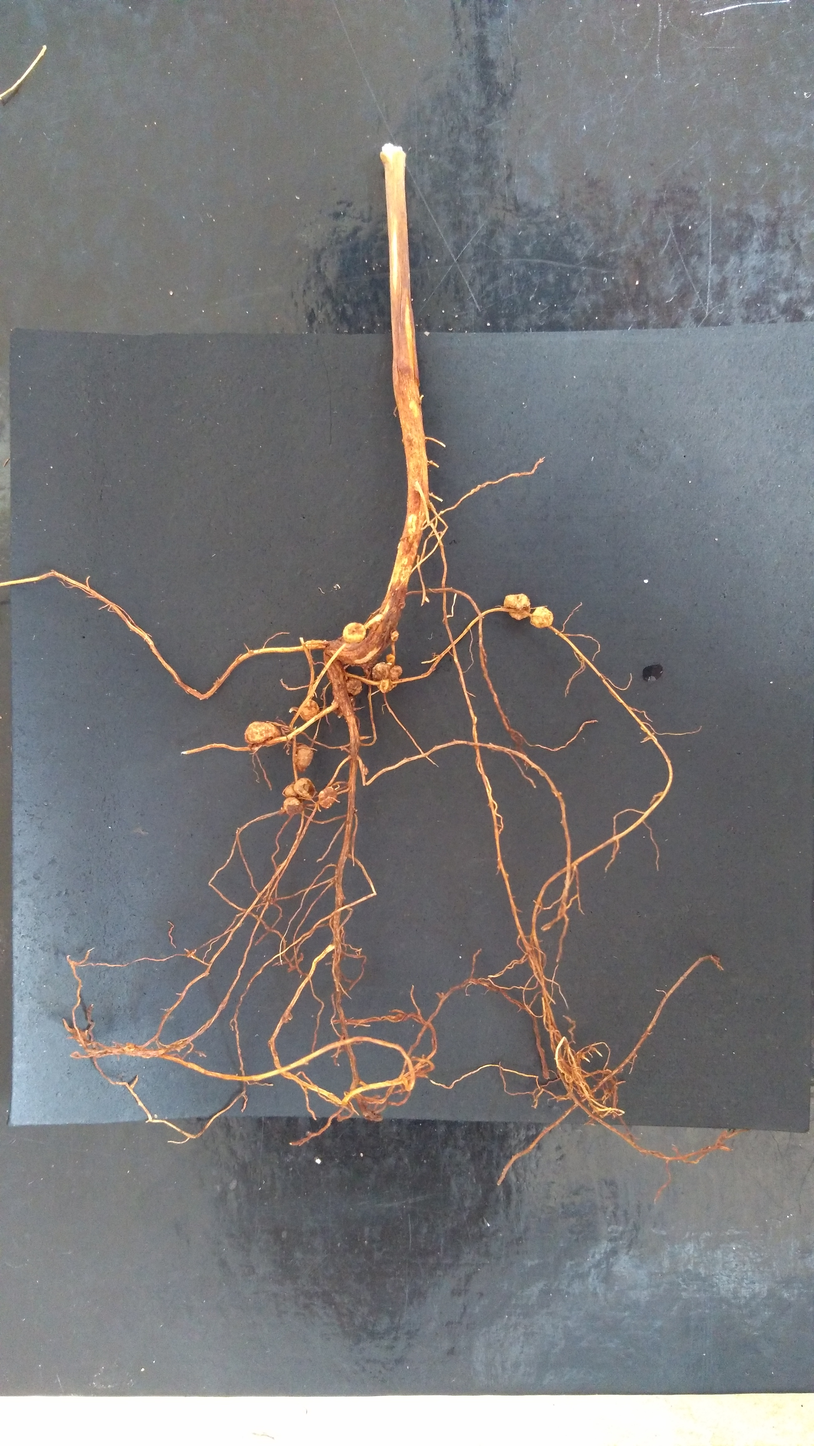nodule: (242, 719, 282, 745), (501, 590, 531, 623), (340, 619, 368, 645), (293, 742, 314, 773), (529, 605, 555, 630), (298, 698, 321, 724), (292, 777, 317, 800), (318, 785, 339, 810), (282, 795, 305, 817), (345, 676, 364, 696), (371, 662, 391, 679), (282, 783, 300, 799), (379, 678, 398, 692), (390, 664, 403, 680), (389, 629, 401, 642), (384, 653, 397, 664)
